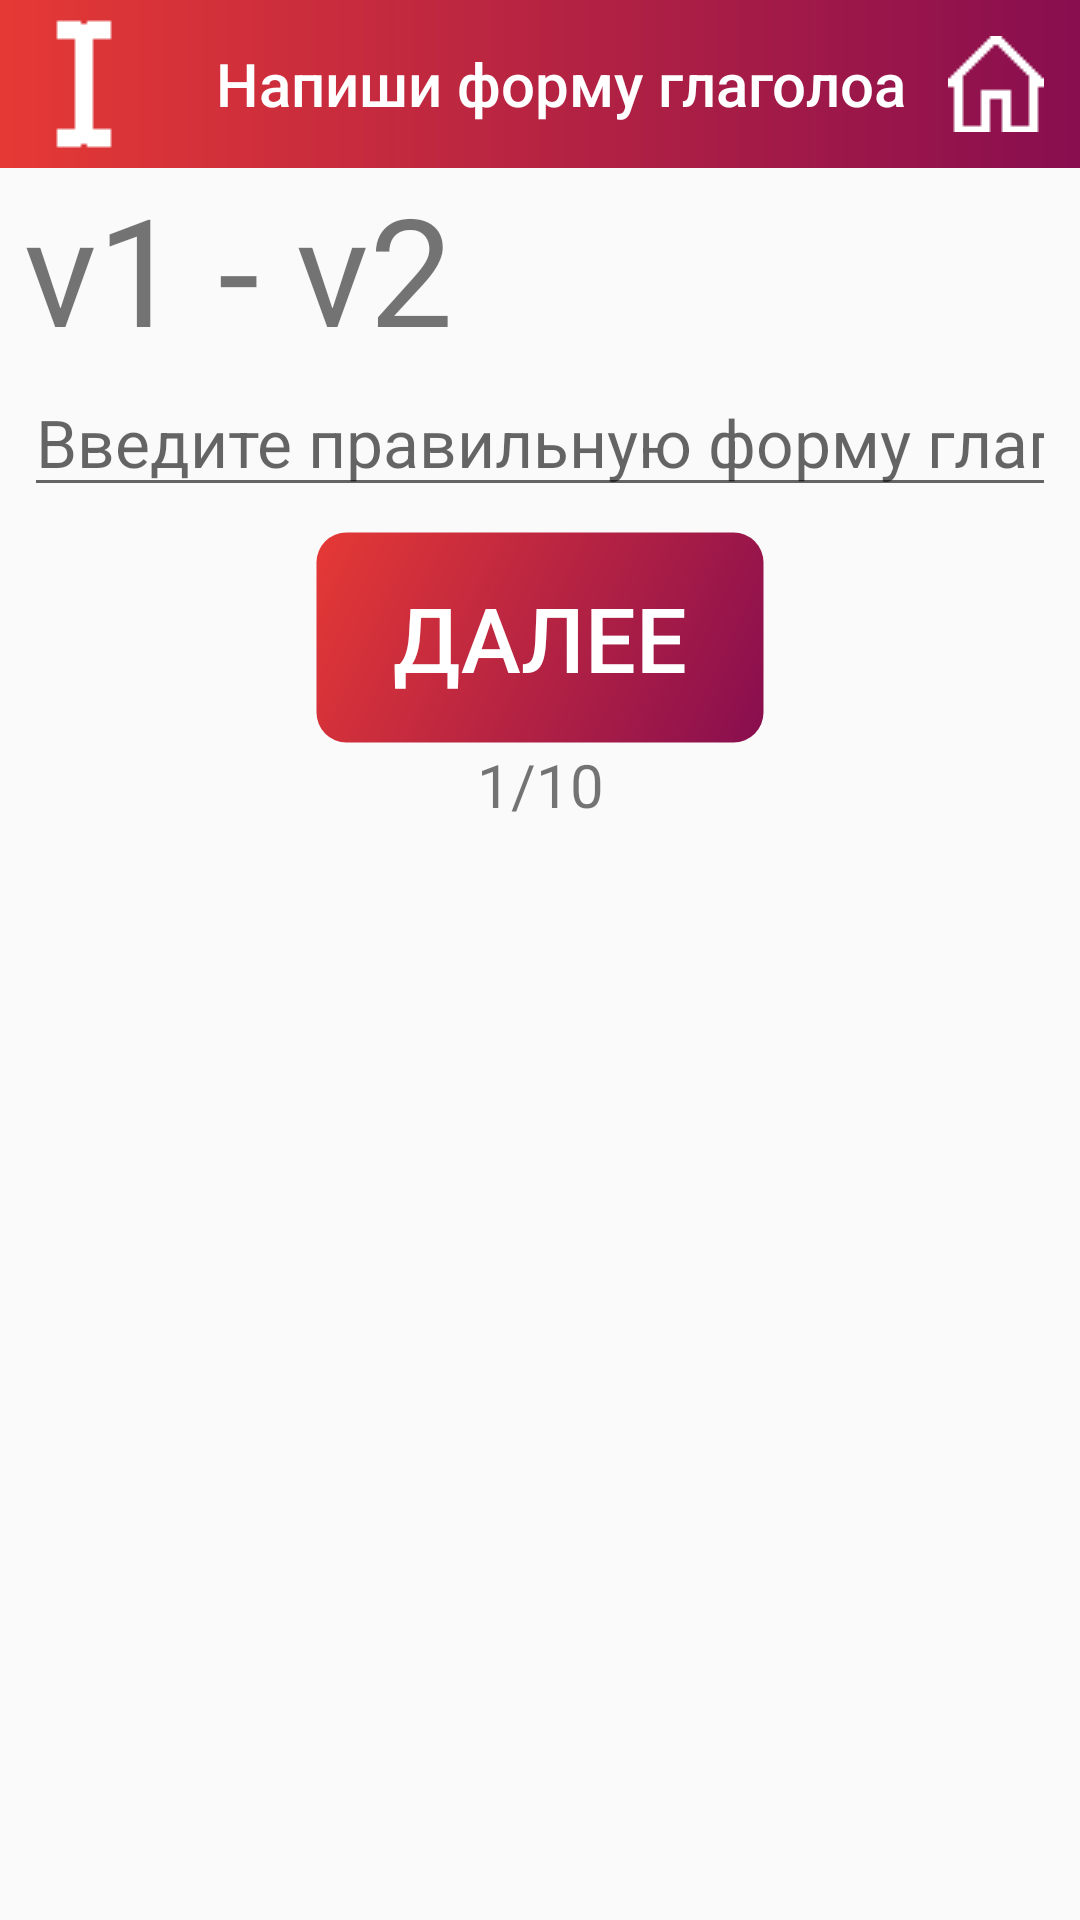

Point at icon controls on the screen. Image size 1080px x 1920px, points as (x=x, y=y).
home: (x=996, y=84)
